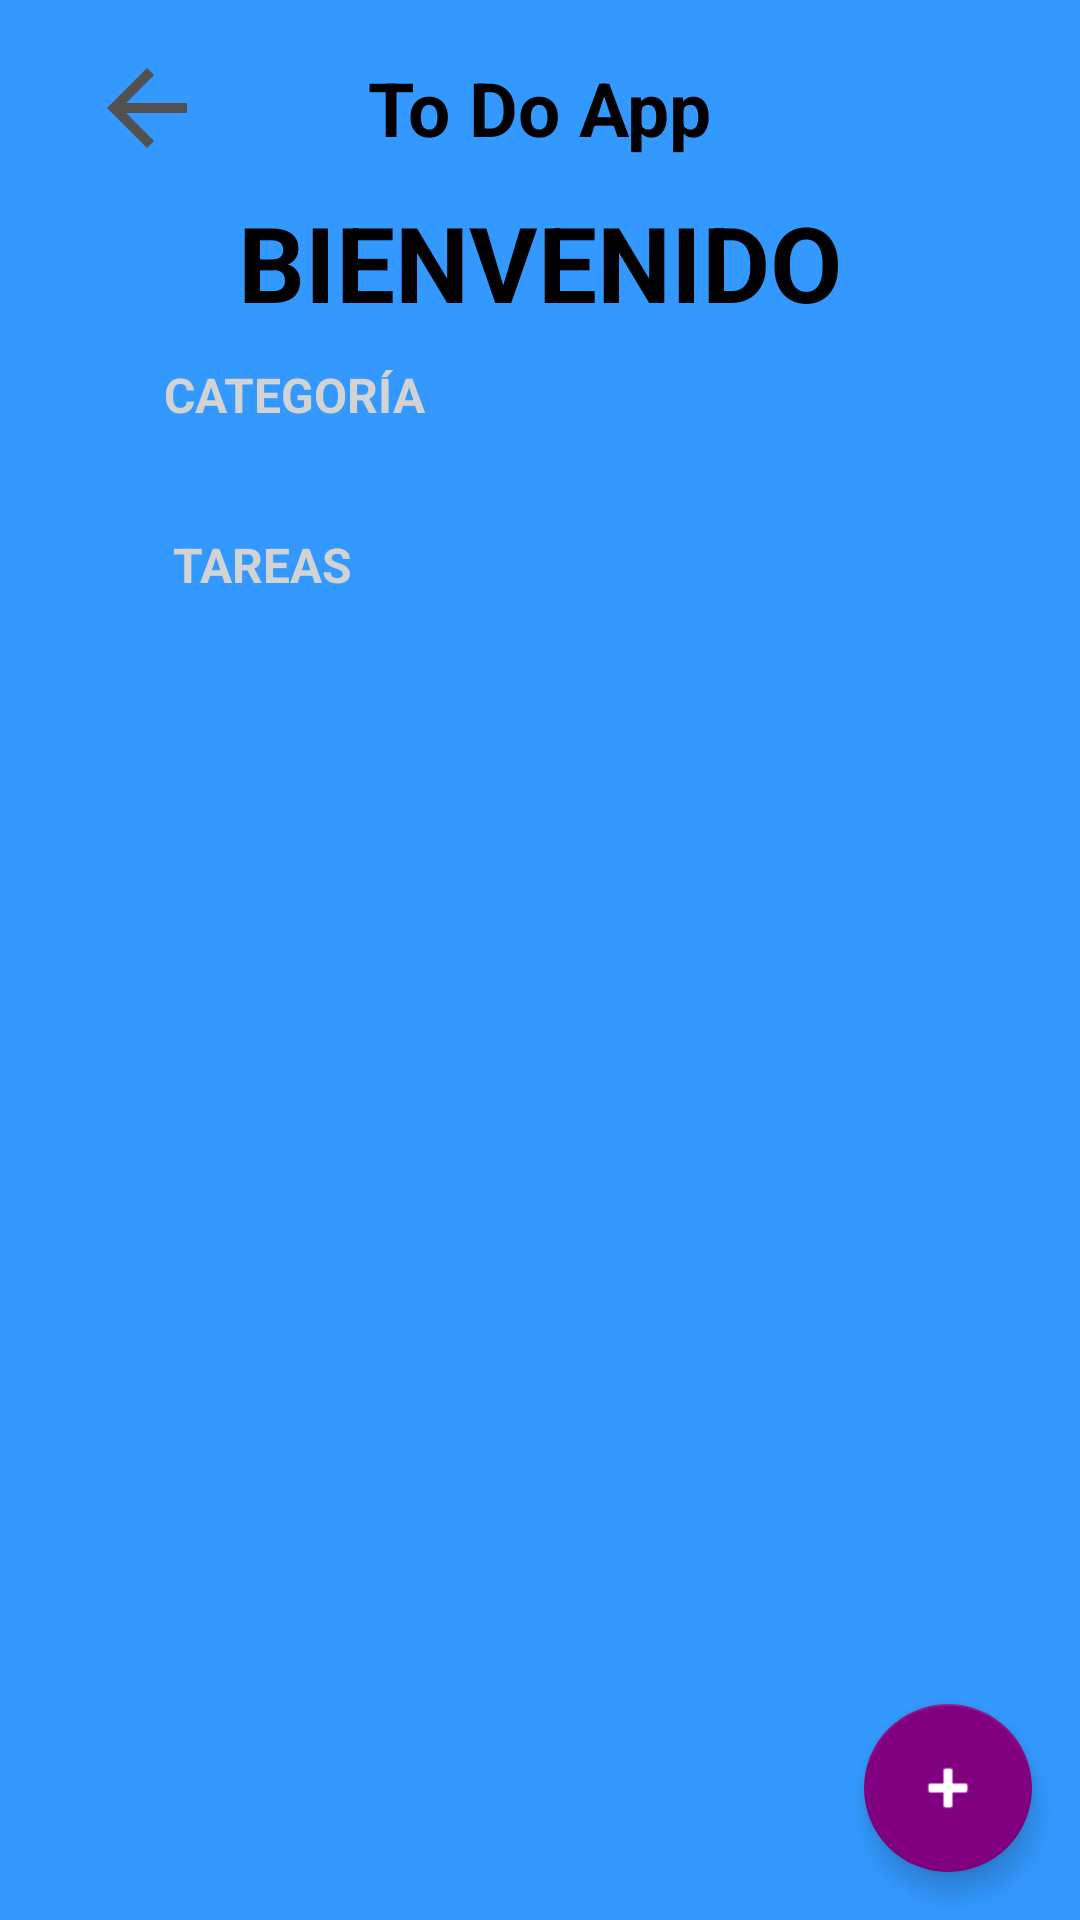

Icon bounding boxes for this 1080 x 1920 phone screenshot, format rect(x1, y1, x2, y2):
add: rect(864, 1704, 1032, 1872)
arrow back: rect(107, 68, 187, 148)
